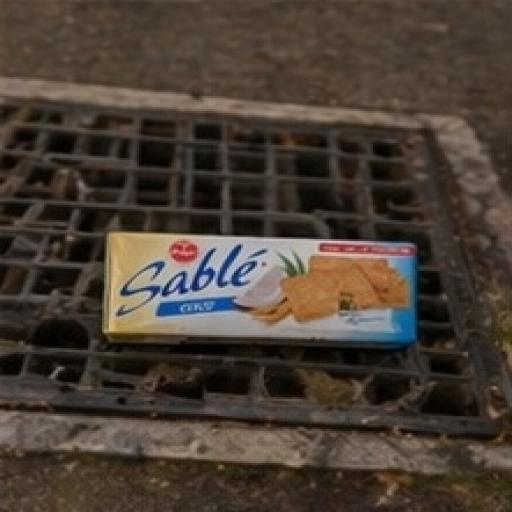sabl: (35, 160, 489, 444)
